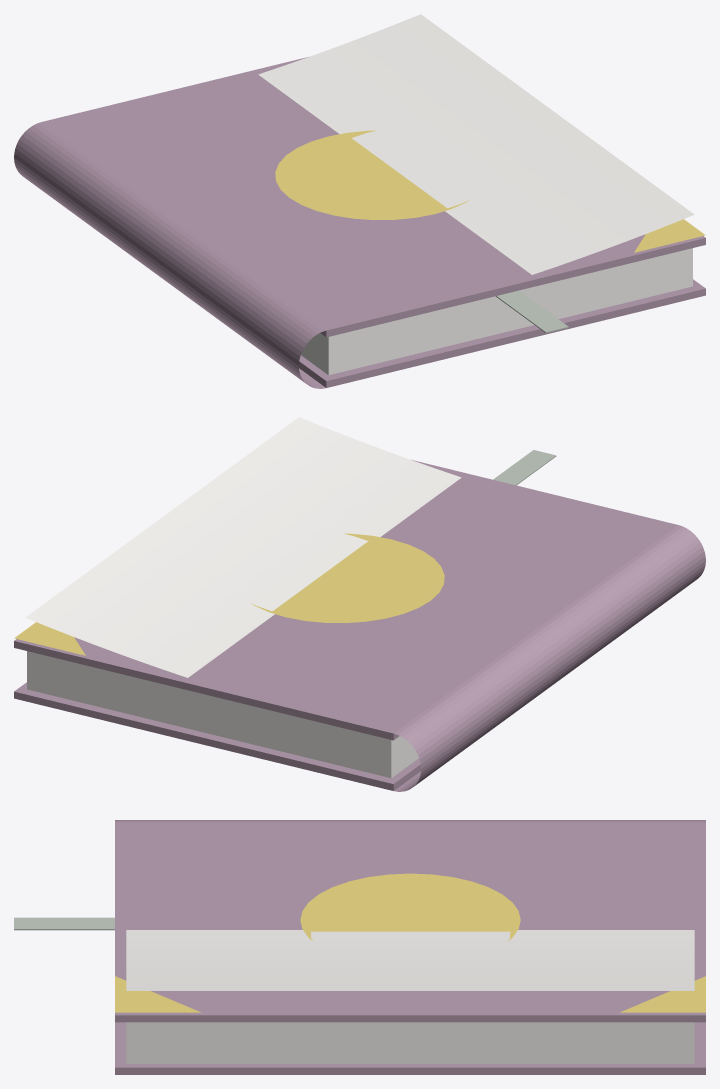
The model's file is memoria_heirloom_book.glb.
3 renders of one model, top to bottom at view 1: azimuth 30°, elevation 25°; view 2: azimuth 150°, elevation 25°; view 3: azimuth 270°, elevation 25°, orthographic. The views are drawn at different scales.
Visible parts, largest first — view 1: FrontCover, TurningPageLeaf, Spine, TextBlock, TreeOfLifeEmblem, BackCover, SilkRibbonBookmark, CornerGuards; view 2: FrontCover, TurningPageLeaf, Spine, TextBlock, TreeOfLifeEmblem, BackCover, CornerGuards, SilkRibbonBookmark; view 3: FrontCover, TurningPageLeaf, TextBlock, TreeOfLifeEmblem, BackCover, CornerGuards, Spine, SilkRibbonBookmark.
Part boxes in pixels (x1=…): FrontCover: x1=42, y1=57, x2=705, y2=337; TurningPageLeaf: x1=258, y1=14, x2=694, y2=274; Spine: x1=14, y1=122, x2=325, y2=388; TextBlock: x1=301, y1=248, x2=692, y2=375; TreeOfLifeEmblem: x1=275, y1=130, x2=468, y2=219; BackCover: x1=299, y1=279, x2=705, y2=387; SilkRibbonBookmark: x1=496, y1=290, x2=568, y2=333; CornerGuards: x1=634, y1=219, x2=705, y2=252; FrontCover: x1=14, y1=460, x2=677, y2=740; TurningPageLeaf: x1=25, y1=417, x2=461, y2=677; Spine: x1=394, y1=525, x2=705, y2=791; TextBlock: x1=27, y1=651, x2=418, y2=778; TreeOfLifeEmblem: x1=251, y1=533, x2=444, y2=622; BackCover: x1=14, y1=682, x2=420, y2=790; CornerGuards: x1=14, y1=622, x2=85, y2=655; SilkRibbonBookmark: x1=493, y1=450, x2=556, y2=485; FrontCover: x1=115, y1=823, x2=705, y2=1022; TurningPageLeaf: x1=126, y1=930, x2=694, y2=990; TextBlock: x1=126, y1=1022, x2=694, y2=1063; TreeOfLifeEmblem: x1=300, y1=873, x2=520, y2=940; BackCover: x1=115, y1=1022, x2=705, y2=1074; CornerGuards: x1=115, y1=976, x2=705, y2=1012; Spine: x1=115, y1=820, x2=705, y2=822; SilkRibbonBookmark: x1=14, y1=917, x2=114, y2=930.
Size of the model in its own units: 0.2145 by 0.0394 by 0.3045.
